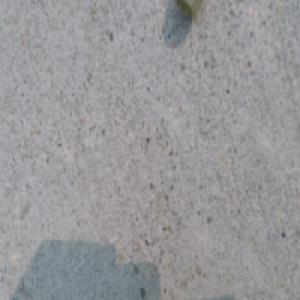BoltNutSet: (176, 1, 200, 21)
